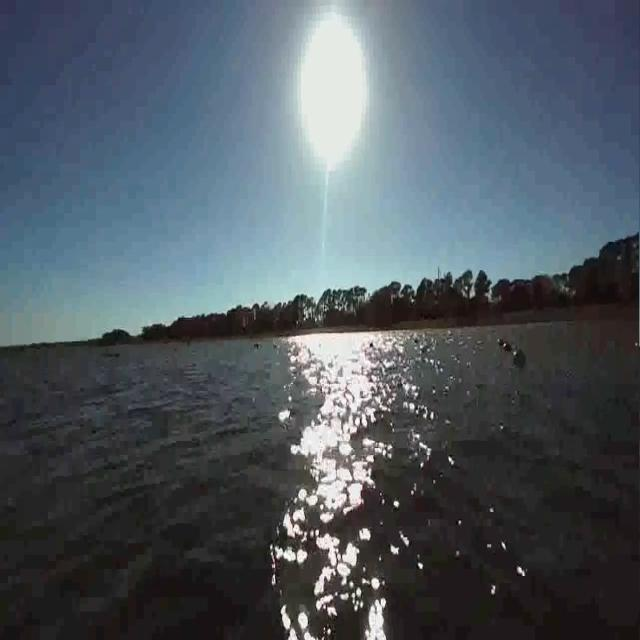green-buoy: (515, 349, 527, 368)
red-buoy: (502, 342, 511, 354)
